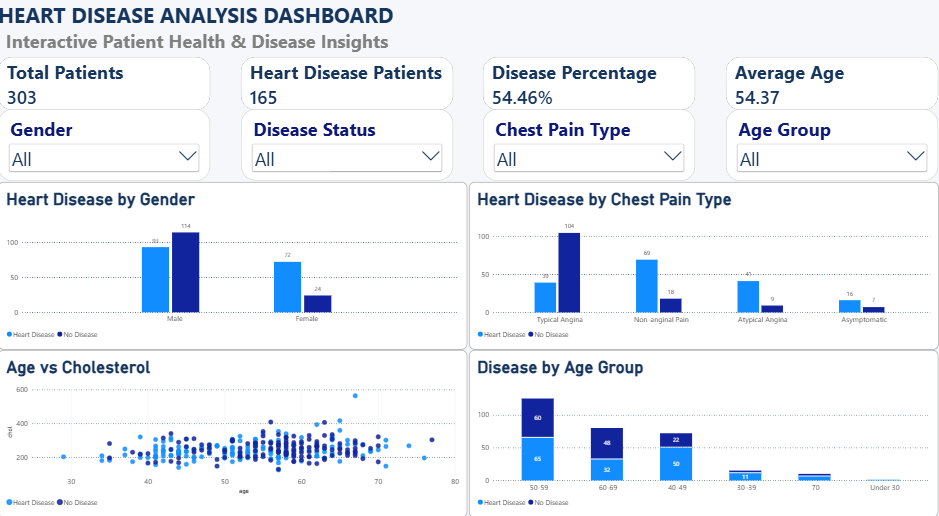

This screenshot's page, from the dashboard's own definition file:
{"tool":"powerbi","page":{"name":"Page 1","canvas":[1920,1080],"ordinal":0},"visuals":[{"type":"clusteredColumnChart","title":"Heart Disease by Gender","fields":{"Category":["heart.Gender"],"Series":["heart.Disease Status"],"Y":["CountNonNull(heart.target)"]},"box":[0,372,958,342],"z":0},{"type":"clusteredColumnChart","title":"Heart Disease by Chest Pain Type","fields":{"Category":["heart.Chest Pain Type"],"Series":["heart.Disease Status"],"Y":["CountNonNull(heart.target)"]},"box":[960.9,372,958.8,342.3],"z":1000},{"type":"cardVisual","fields":{"Data":["heart.Total Patients"]},"box":[0,116.9,433,108.4],"z":2000},{"type":"cardVisual","fields":{"Data":["heart.Heart Disease Patients"]},"box":[495.4,116.9,433,108.4],"z":3000},{"type":"cardVisual","fields":{"Data":["heart.Disease Percentage"]},"box":[990.7,116.9,433,108.4],"z":4000},{"type":"cardVisual","fields":{"Data":["heart.Average Age"]},"box":[1486.1,116.9,433,108.4],"z":5000},{"type":"textbox","box":[0,0,890.8,89.3],"z":6000},{"type":"textbox","box":[0,44.6,822.8,93.5],"z":7000},{"type":"slicer","fields":{"Values":["heart.Gender"]},"box":[0,223.2,433,146.7],"z":8000},{"type":"columnChart","title":"Disease by Age Group     ","fields":{"Category":["heart.Age Group"],"Series":["heart.Disease Status"],"Y":["CountNonNull(heart.target)"]},"box":[960.9,714.3,958,342.3],"z":9000},{"type":"scatterChart","title":"Age vs Cholesterol","fields":{"Series":["heart.Disease Status"],"X":["heart.age"],"Y":["heart.chol"]},"box":[0,714.3,958,342],"z":10000},{"type":"slicer","fields":{"Values":["heart.Disease Status"]},"box":[495.4,223.2,433,146],"z":11000},{"type":"slicer","fields":{"Values":["heart.Chest Pain Type"]},"box":[990.7,223.2,433,146.7],"z":12000},{"type":"slicer","fields":{"Values":["heart.Age Group"]},"box":[1486.1,223.2,433,146.7],"z":13000}]}

Visuals, with their boxes in screenshot pixels (x1, y1, x2, y2), scaled from the page's 1920x1080 canvas onto the 939x516 screenshot:
"Heart Disease by Gender" clusteredColumnChart: bbox(0, 178, 469, 341)
"Heart Disease by Chest Pain Type" clusteredColumnChart: bbox(470, 178, 938, 341)
cardVisual - heart.Total Patients: bbox(0, 56, 212, 108)
cardVisual - heart.Heart Disease Patients: bbox(242, 56, 454, 108)
cardVisual - heart.Disease Percentage: bbox(485, 56, 696, 108)
cardVisual - heart.Average Age: bbox(727, 56, 938, 108)
textbox: bbox(0, 0, 436, 43)
textbox: bbox(0, 21, 402, 66)
slicer - heart.Gender: bbox(0, 107, 212, 177)
"Disease by Age Group     " columnChart: bbox(470, 341, 938, 505)
"Age vs Cholesterol" scatterChart: bbox(0, 341, 469, 505)
slicer - heart.Disease Status: bbox(242, 107, 454, 176)
slicer - heart.Chest Pain Type: bbox(485, 107, 696, 177)
slicer - heart.Age Group: bbox(727, 107, 938, 177)
